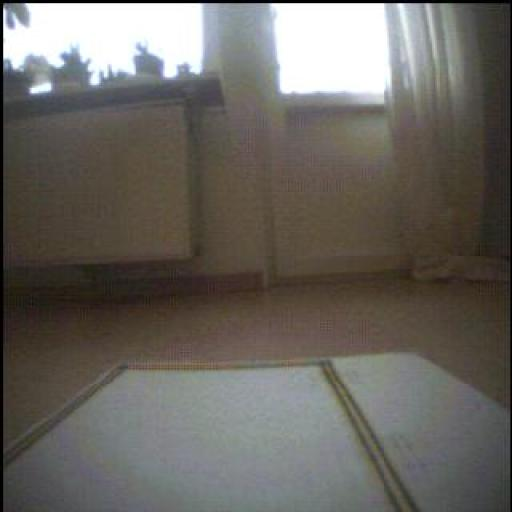Pad: (4, 356, 508, 512)
